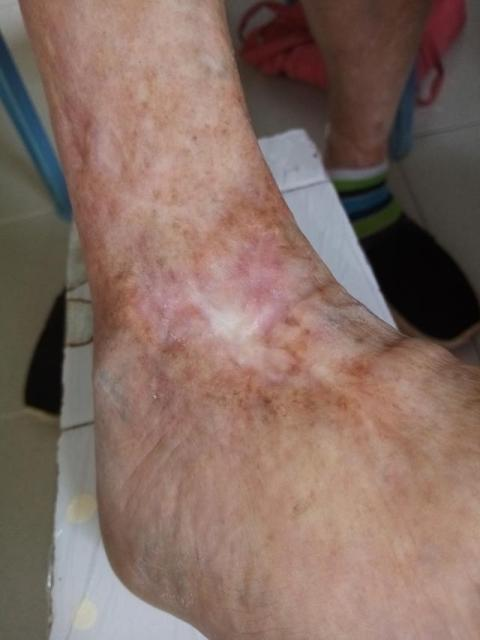wound: (184, 266, 295, 378)
